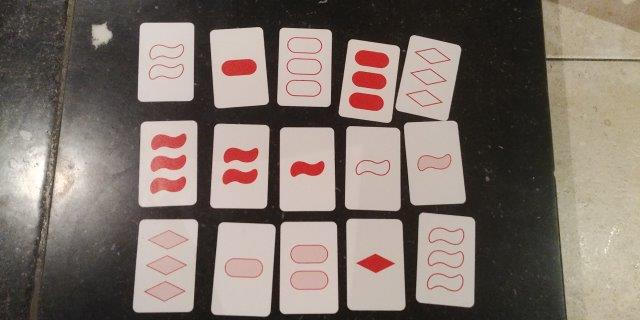1EW: (348, 130, 396, 205)
1FD: (350, 222, 399, 306)
1FP: (217, 31, 262, 102)
1FW: (282, 130, 330, 209)
1HP: (220, 226, 267, 309)
1HW: (410, 126, 456, 201)
2EW: (141, 24, 189, 98)
2FW: (215, 127, 263, 206)
2HP: (283, 223, 333, 309)
3ED: (406, 42, 449, 112)
3EP: (280, 30, 328, 104)
3EW: (418, 217, 469, 300)
3FP: (348, 44, 389, 115)
3FW: (140, 124, 192, 203)
3HD: (139, 224, 191, 309)
